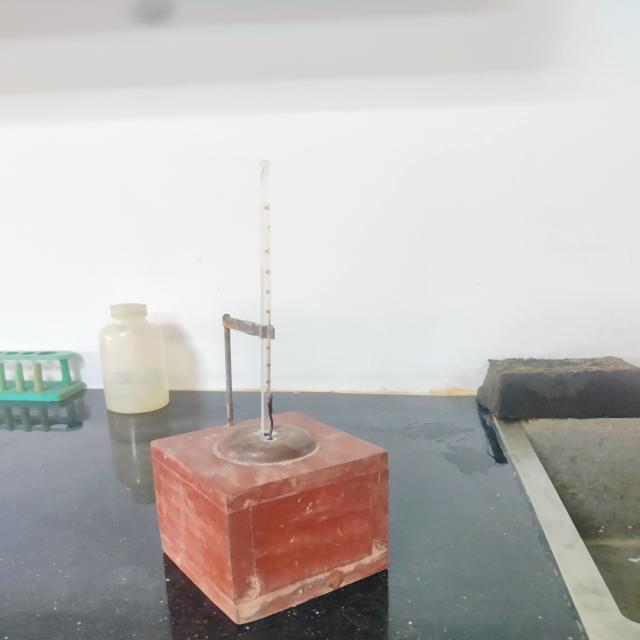Calorimeter: (120, 131, 439, 640)
